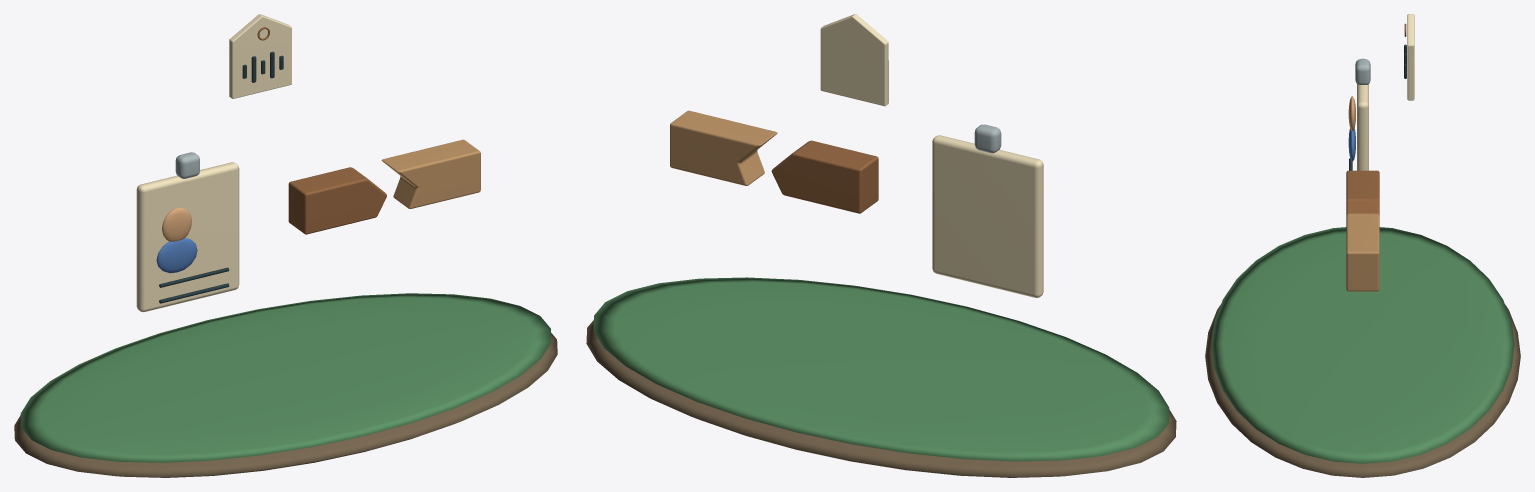
The model's file is complete-third-identity-separation.glb.
3 renders of one model, left to right at view 1: azimuth 30°, elevation 25°; view 2: azimuth 150°, elevation 25°; view 3: azimuth 270°, elevation 25°, orthographic. The views are drawn at different scales.
Parts seen in each view (by area): view 1: complete-third-identity-separation_surface_01, complete-third-identity-separation_surface_02, complete-third-identity-separation_surface_00, complete-third-identity-separation_surface_07, complete-third-identity-separation_surface_08, complete-third-identity-separation_surface_06, complete-third-identity-separation_surface_05, complete-third-identity-separation_surface_04, complete-third-identity-separation_surface_03; view 2: complete-third-identity-separation_surface_01, complete-third-identity-separation_surface_02, complete-third-identity-separation_surface_00, complete-third-identity-separation_surface_07, complete-third-identity-separation_surface_08, complete-third-identity-separation_surface_03; view 3: complete-third-identity-separation_surface_01, complete-third-identity-separation_surface_00, complete-third-identity-separation_surface_08, complete-third-identity-separation_surface_02, complete-third-identity-separation_surface_07, complete-third-identity-separation_surface_03.
Part boxes in pixels (box(x1,y1,x2,y2)): complete-third-identity-separation_surface_01: box(20, 293, 551, 462); complete-third-identity-separation_surface_02: box(136, 14, 291, 312); complete-third-identity-separation_surface_00: box(14, 333, 557, 477); complete-third-identity-separation_surface_07: box(257, 27, 386, 234); complete-third-identity-separation_surface_08: box(381, 139, 480, 208); complete-third-identity-separation_surface_06: box(159, 51, 283, 303); complete-third-identity-separation_surface_05: box(156, 237, 197, 273); complete-third-identity-separation_surface_04: box(162, 208, 191, 241); complete-third-identity-separation_surface_03: box(175, 152, 199, 178); complete-third-identity-separation_surface_01: box(593, 277, 1169, 461); complete-third-identity-separation_surface_02: box(820, 14, 1043, 297); complete-third-identity-separation_surface_00: box(586, 320, 1176, 477); complete-third-identity-separation_surface_07: box(771, 140, 878, 213); complete-third-identity-separation_surface_08: box(670, 110, 777, 185); complete-third-identity-separation_surface_03: box(974, 124, 1001, 153); complete-third-identity-separation_surface_01: box(1211, 227, 1514, 463); complete-third-identity-separation_surface_00: box(1205, 305, 1520, 477); complete-third-identity-separation_surface_08: box(1346, 213, 1379, 291); complete-third-identity-separation_surface_02: box(1357, 14, 1414, 170); complete-third-identity-separation_surface_07: box(1346, 23, 1406, 215); complete-third-identity-separation_surface_03: box(1355, 59, 1370, 84).
Bounding box in the file's own units: 4.56 × 3.12 × 2.5.
